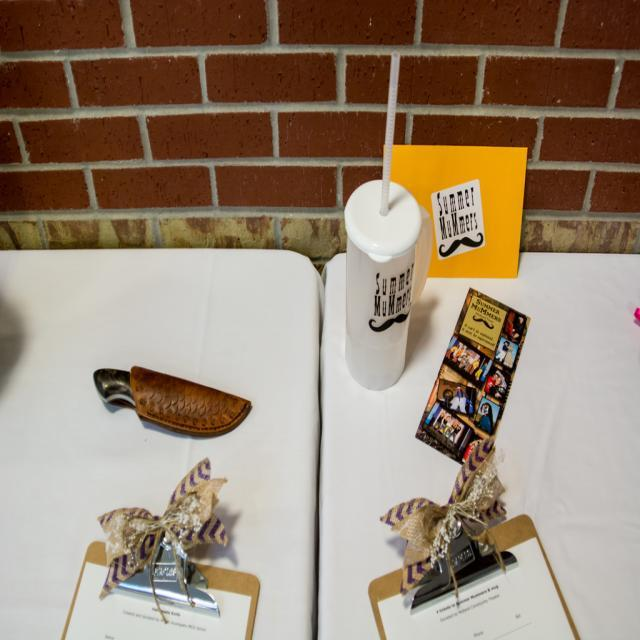Gun: (94, 366, 250, 436)
